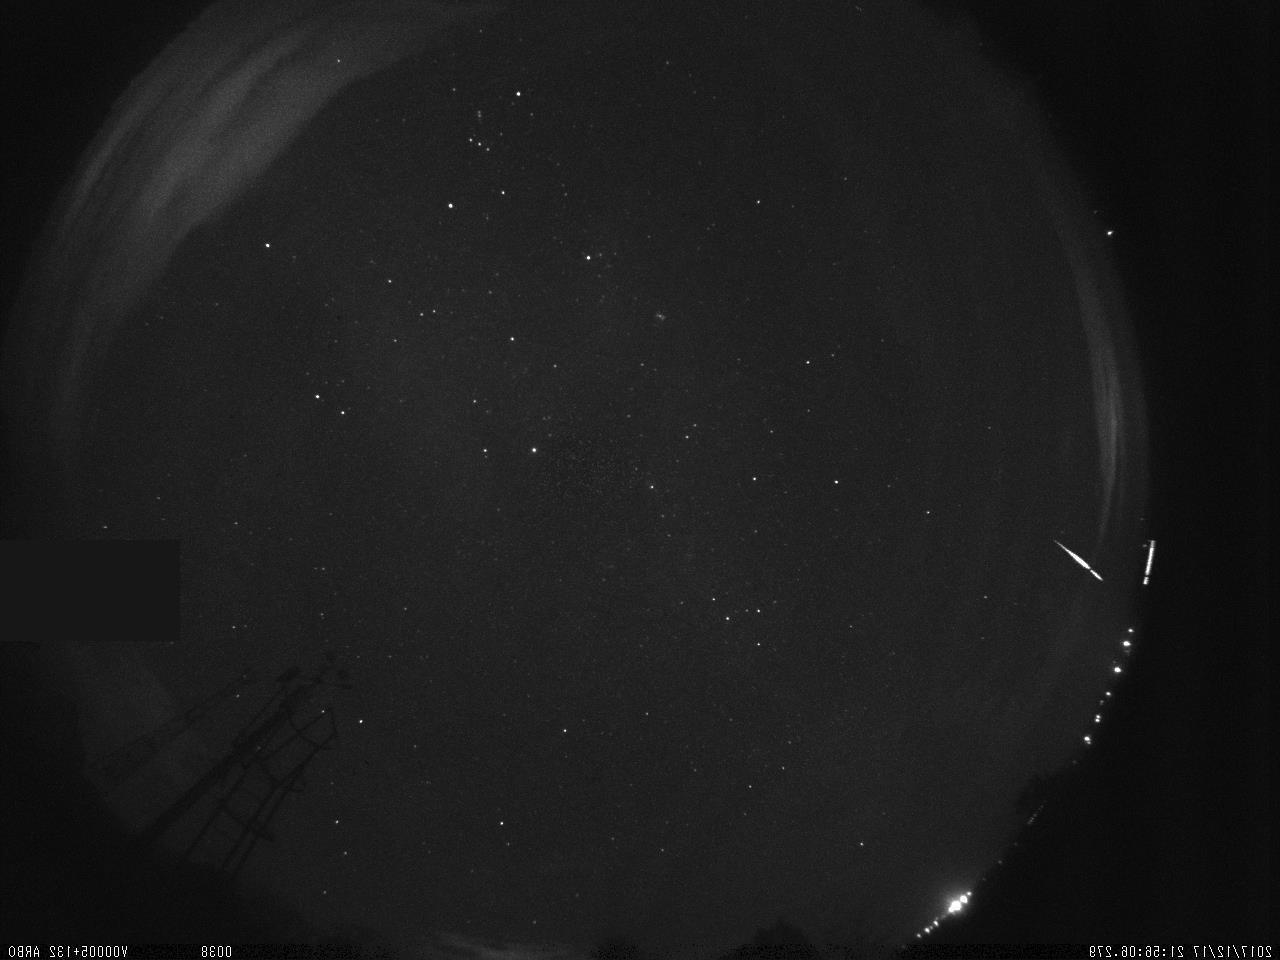meteor: (1040, 527, 1121, 593)
